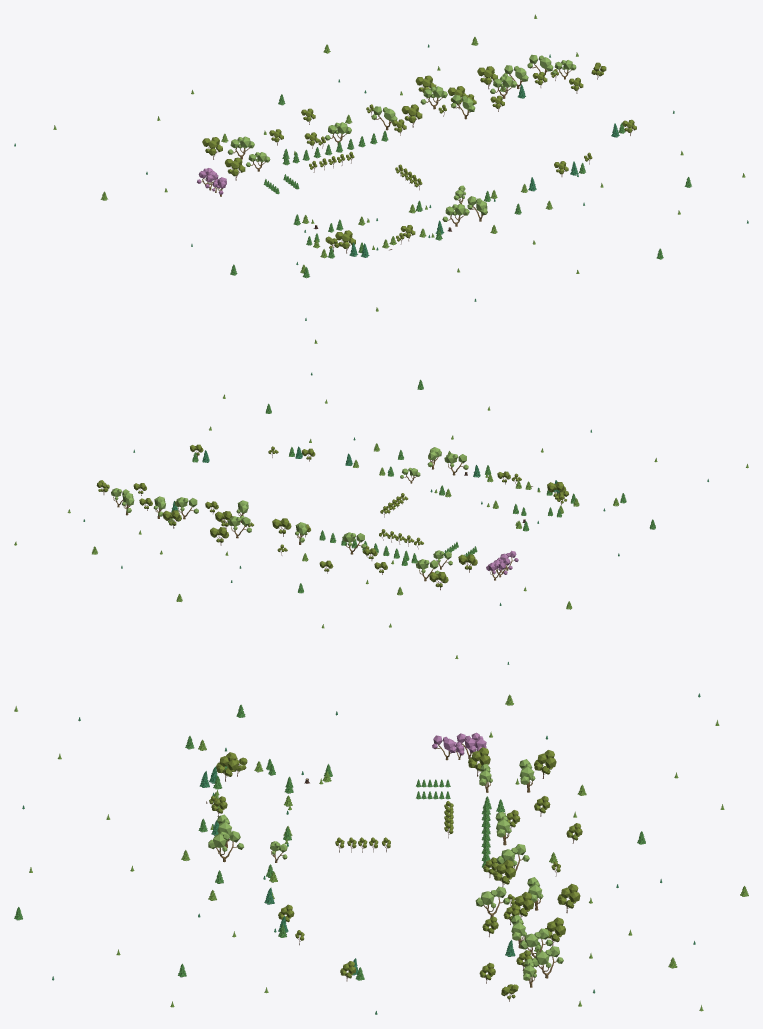
Rendered from Trees.gltf.
The picture shows the model from 3 angles, top to bottom: view 1: azimuth 30°, elevation 25°; view 2: azimuth 150°, elevation 25°; view 3: azimuth 270°, elevation 25°; orthographic projection. The views are drawn at different scales.
Bounding box in the file's own units: 454 × 18.47 × 442.
12 materials, 9 textured.
